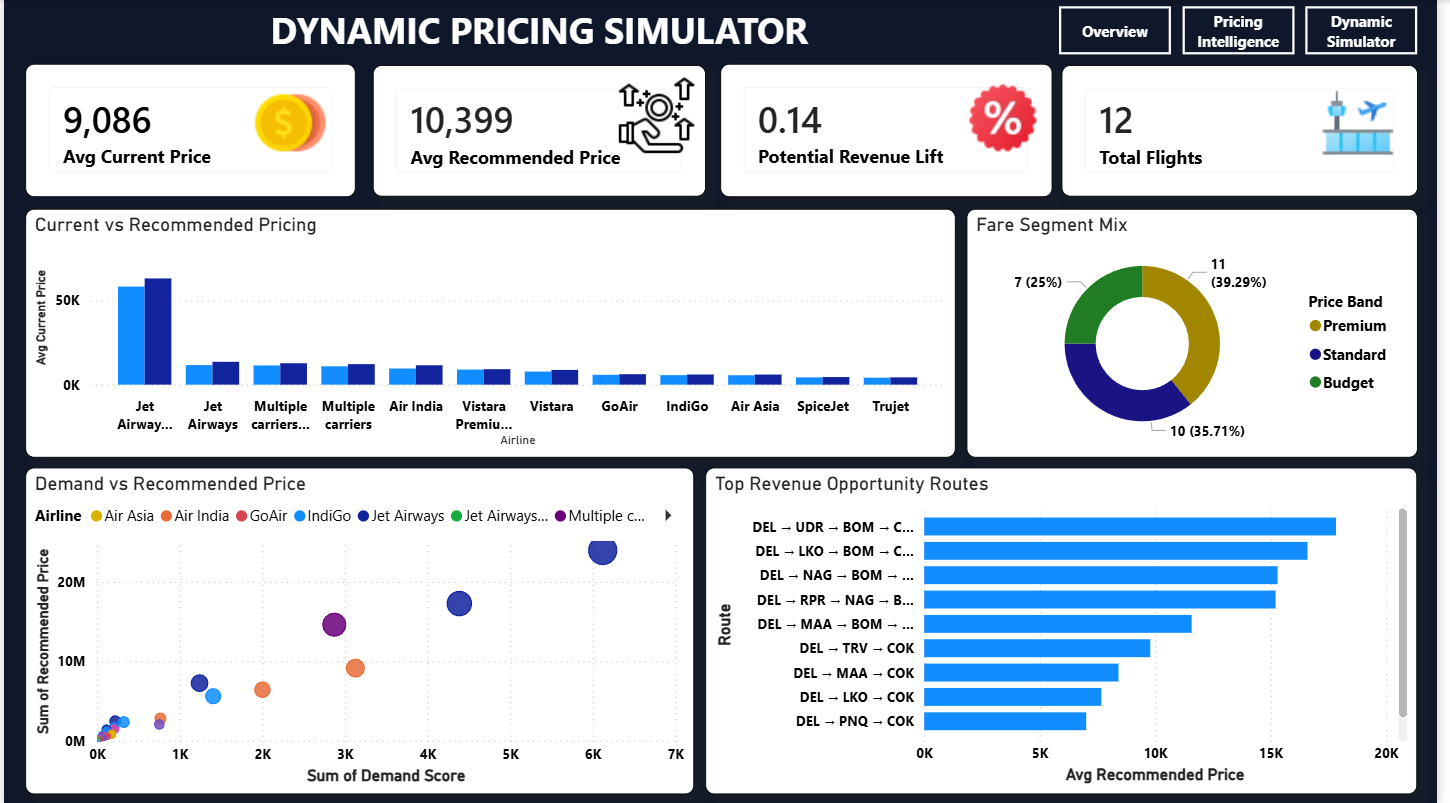

What the dashboard file says about the page in this screenshot:
{"tool":"powerbi","page":{"name":"Dynamic Simulator","canvas":[1280,720],"ordinal":2},"visuals":[{"type":"textbox","box":[19,0,917.9,56.9],"z":0},{"type":"cardVisual","fields":{"Data":["Airline.Avg Current Price"]},"box":[19.2,56.4,295.4,118.9],"z":1000},{"type":"cardVisual","fields":{"Data":["Airline.Avg Recommended Price"]},"box":[329,57.6,297.8,117.7],"z":2000},{"type":"cardVisual","fields":{"Data":["Airline.Potential Revenue Lift %"]},"box":[640,56.4,296.6,118.9],"z":3000},{"type":"cardVisual","fields":{"Data":["Airline.Total Airlines"]},"box":[944.7,58.1,318.2,117.2],"z":4000},{"type":"clusteredColumnChart","title":"Current vs Recommended Pricing","fields":{"Category":["Airline.Airline"],"Y":["Airline.Avg Current Price","Airline.Avg Recommended Price"]},"box":[19.2,186.1,830.9,222.1],"z":5000},{"type":"donutChart","title":"Fare Segment Mix","fields":{"Category":["Airline.Price Band"],"Y":["Airline.Total Airlines"]},"box":[859.7,186.1,403.5,222.1],"z":6000},{"type":"scatterChart","title":"Demand vs Recommended Price","fields":{"X":["Sum(Airline.Demand Score)"],"Y":["Sum(Airline.Recommended Price)"],"Series":["Airline.Airline"],"Size":["Sum(Airline.Price)"],"Category":["Airline.Routes"]},"box":[19.2,417.9,598,291.8],"z":7000},{"type":"barChart","title":"Top Revenue Opportunity Routes","fields":{"Category":["Airline.Route"],"Y":["Airline.Avg Recommended Price"]},"box":[626.8,417.9,636.4,291.8],"z":8000},{"type":"image","box":[211.3,73.2,88.9,72],"z":9000},{"type":"image","box":[537.9,67.2,88.9,72],"z":10000},{"type":"image","box":[847.7,69.6,88.9,72],"z":11000},{"type":"image","box":[1164.7,73.2,88.9,72],"z":12000},{"type":"pageNavigator","box":[942.4,5.6,320.5,43.5],"z":17000}]}

Visuals, with their boxes in screenshot pixels (x1, y1, x2, y2), scaled from the page's 1280x720 canvas onto the 1450x803 screenshot:
textbox: box=[22, 0, 1061, 63]
cardVisual - Airline.Avg Current Price: box=[22, 63, 356, 196]
cardVisual - Airline.Avg Recommended Price: box=[373, 64, 710, 196]
cardVisual - Airline.Potential Revenue Lift %: box=[725, 63, 1061, 196]
cardVisual - Airline.Total Airlines: box=[1070, 65, 1431, 196]
"Current vs Recommended Pricing" clusteredColumnChart: box=[22, 208, 963, 455]
"Fare Segment Mix" donutChart: box=[974, 208, 1431, 455]
"Demand vs Recommended Price" scatterChart: box=[22, 466, 699, 792]
"Top Revenue Opportunity Routes" barChart: box=[710, 466, 1431, 792]
image: box=[239, 82, 340, 162]
image: box=[609, 75, 710, 155]
image: box=[960, 78, 1061, 158]
image: box=[1319, 82, 1420, 162]
pageNavigator: box=[1068, 6, 1431, 55]
